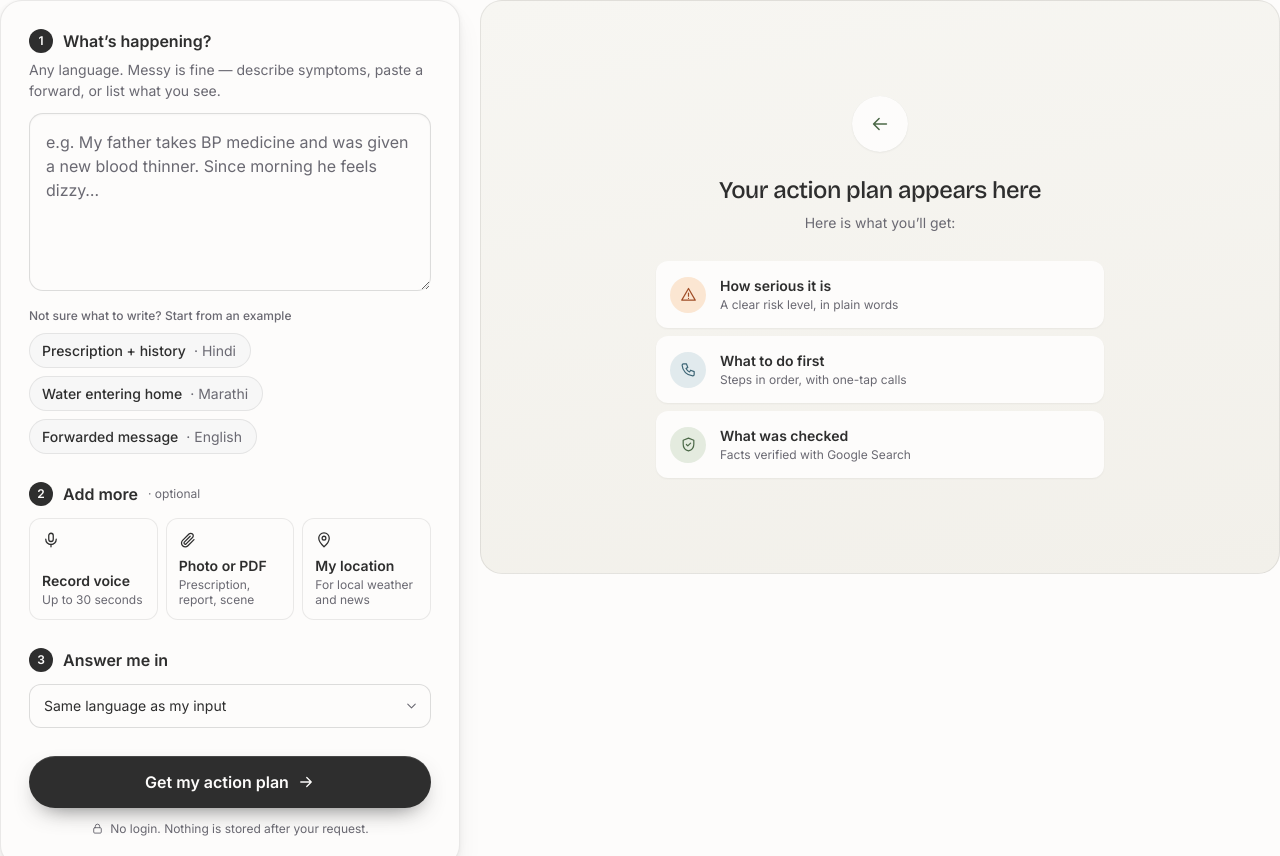
Scenario: Workspace › shows the example's sample card when live analysis is not configured
Click the button "Forwarded message · English".
click(143, 436)  # box 29,419 -> 257,454
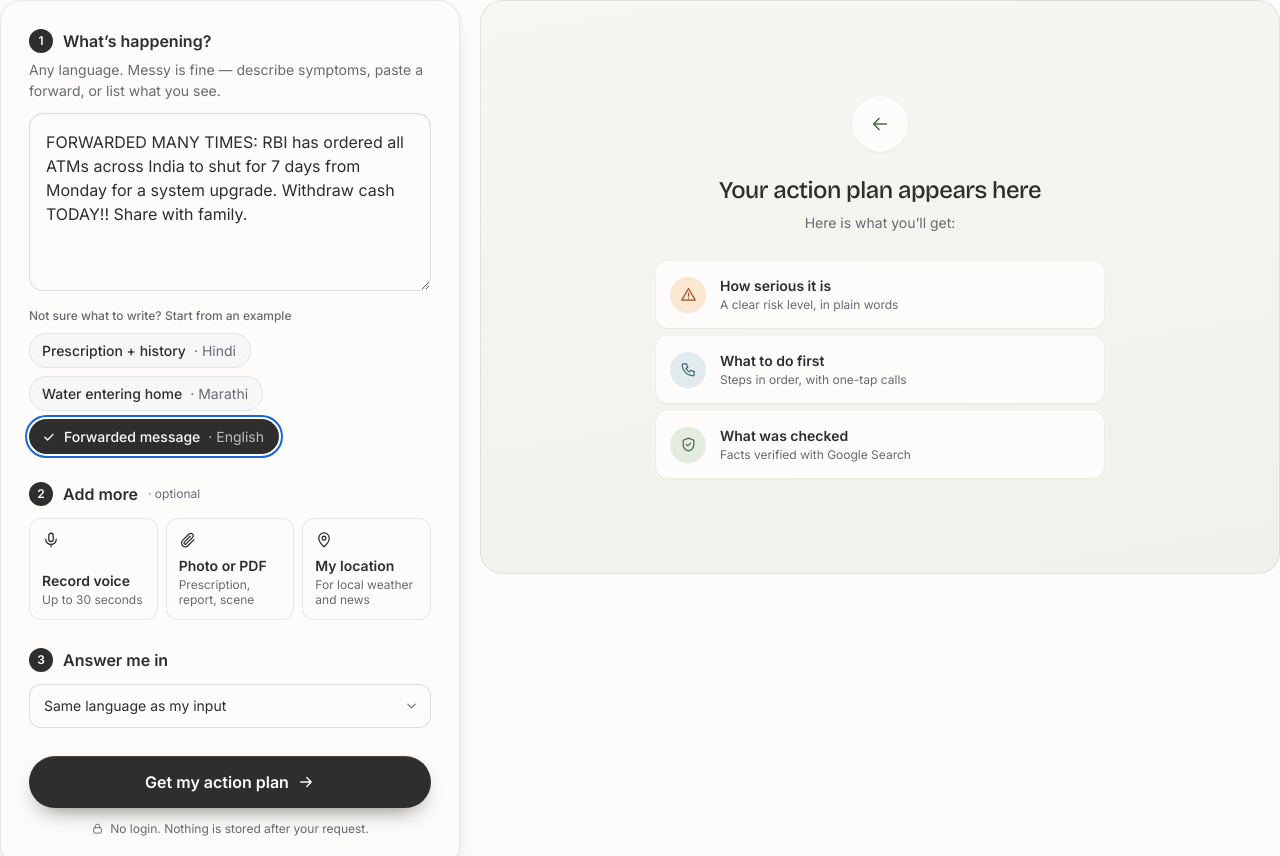
Click the button "Get my action plan".
click(230, 782)  # box 29,756 -> 431,808
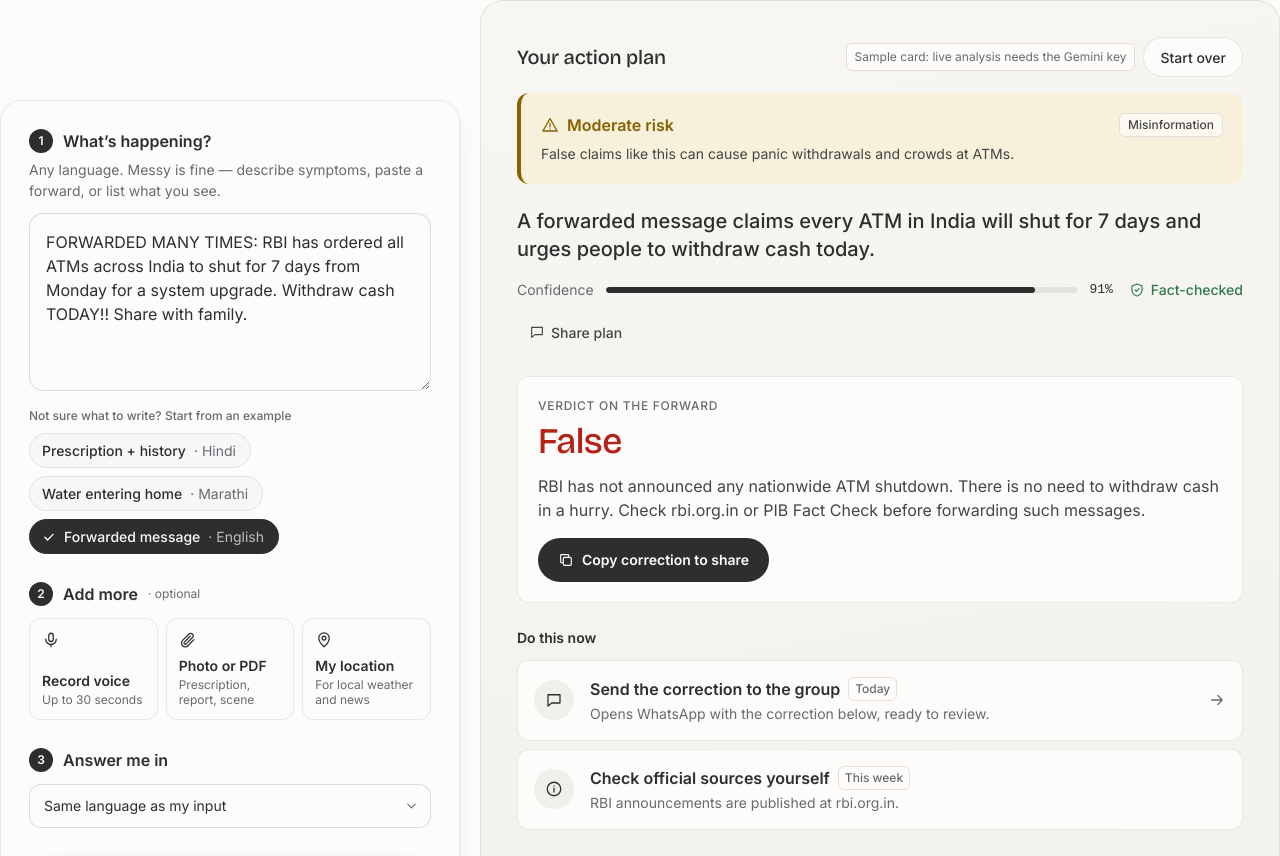
Result: the text "Sample card: live analysis needs the Gemini key" is shown at 846,43 -> 1135,71
Result: the button "Copy correction to share" is shown at 538,538 -> 769,582
